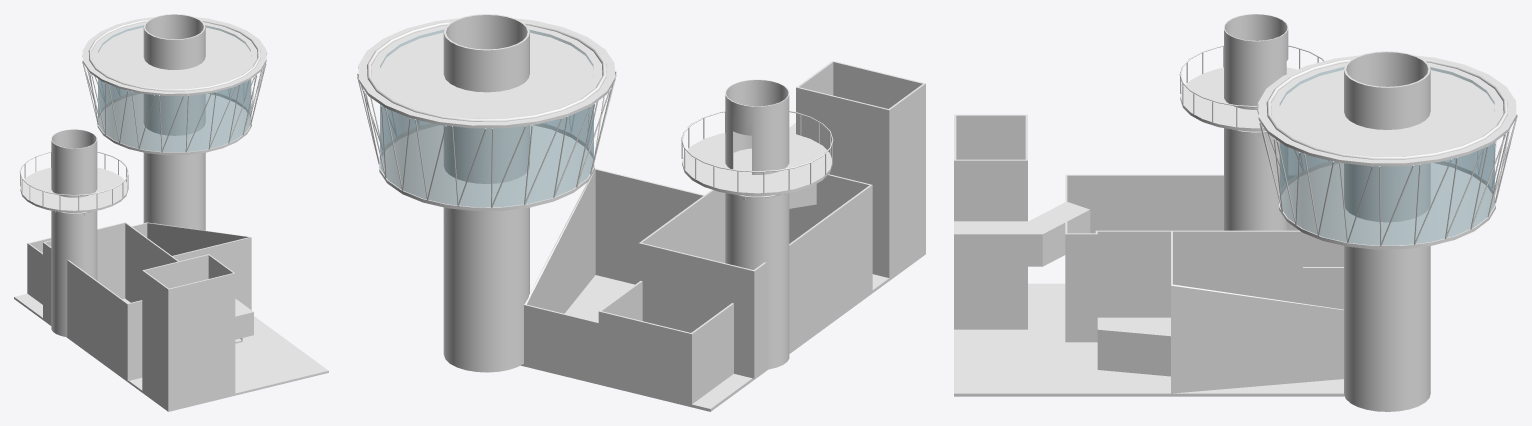
3 renders of one model, left to right at view 1: azimuth 30°, elevation 25°; view 2: azimuth 150°, elevation 25°; view 3: azimuth 270°, elevation 25°, orthographic. The views are drawn at different scales.
Visible parts, largest first — view 1: 51683, 47648, 47133, 48753, 32665, 31654, 48399, 33109, 55543, 47071, 65279, 46991 (+1 smaller); view 2: 51683, 48753, 47133, 48399, 47648, 47071, 32665, 33109, 55543, 31654, 46991, 65279 (+1 smaller); view 3: 51683, 47133, 48753, 48399, 31654, 47648, 32665, 65279, 65344, 33109, 47071, 55543.
Part boxes in pixels (x1,y1,x2,y2): 51683: [82, 17, 266, 155]; 47648: [142, 254, 235, 409]; 47133: [43, 222, 178, 381]; 48753: [143, 14, 205, 230]; 32665: [51, 129, 97, 336]; 31654: [14, 294, 328, 411]; 48399: [132, 222, 251, 309]; 33109: [20, 167, 127, 212]; 55543: [88, 19, 260, 91]; 47071: [27, 237, 51, 304]; 65279: [235, 298, 253, 339]; 46991: [15, 294, 249, 393]; 51683: [358, 18, 615, 210]; 48753: [443, 14, 529, 372]; 47133: [638, 174, 872, 378]; 48399: [524, 168, 703, 381]; 47648: [796, 61, 925, 277]; 47071: [598, 281, 733, 404]; 32665: [725, 79, 789, 369]; 33109: [682, 133, 832, 196]; 55543: [367, 21, 606, 121]; 31654: [520, 251, 925, 411]; 46991: [444, 274, 888, 408]; 65279: [789, 123, 816, 208]; 51683: [1258, 55, 1516, 249]; 47133: [1065, 174, 1302, 342]; 48753: [1344, 51, 1430, 411]; 48399: [1171, 231, 1343, 393]; 31654: [954, 283, 1344, 396]; 47648: [954, 114, 1027, 329]; 32665: [1224, 14, 1288, 230]; 65279: [954, 202, 1090, 266]; 65344: [1097, 317, 1170, 376]; 33109: [1180, 67, 1296, 131]; 47071: [1303, 233, 1343, 309]; 55543: [1266, 59, 1507, 159].
Size of the model in its own units: 20.56 by 16.65 by 26.
1659 materials, 24 textured.
